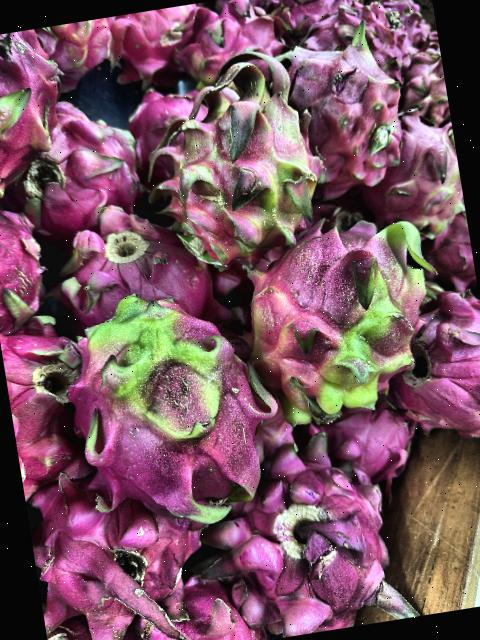buah-naga-belum-matang: (49, 290, 300, 542), (226, 216, 456, 438), (151, 49, 329, 261), (369, 98, 470, 250)
buah-naga-matang: (188, 444, 406, 640), (22, 452, 213, 636), (43, 187, 212, 337), (276, 21, 412, 199), (0, 316, 107, 505), (0, 112, 147, 238), (389, 288, 480, 447), (0, 27, 66, 185), (176, 0, 284, 75), (0, 185, 51, 332), (328, 399, 420, 480), (105, 4, 200, 70), (44, 17, 119, 82)
